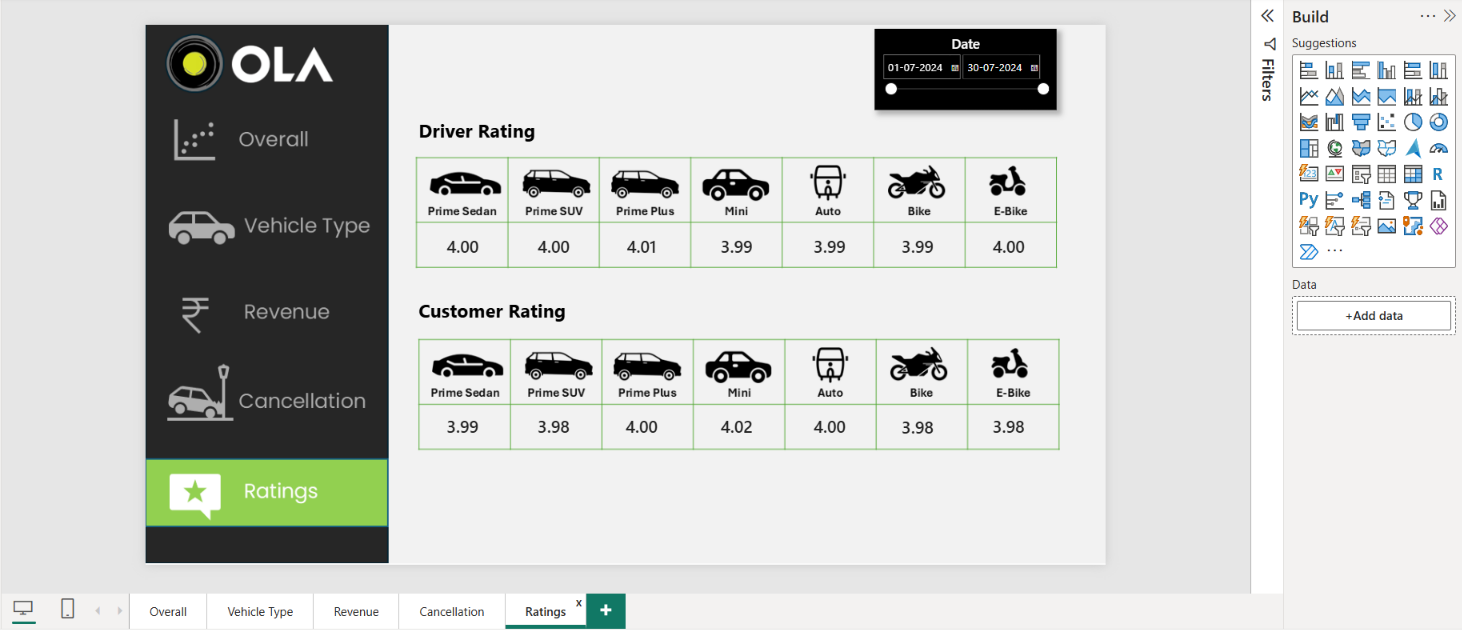

What the dashboard file says about the page in this screenshot:
{"tool":"powerbi","page":{"name":"Ratings","canvas":[1920,1080],"ordinal":4},"visuals":[{"type":"actionButton","box":[0,170.1,483.2,133.9],"z":0},{"type":"actionButton","box":[0,340.2,483.2,133.9],"z":1000},{"type":"actionButton","box":[0,506.7,483.2,133.9],"z":2000},{"type":"actionButton","box":[0,671.4,483.2,144.8],"z":3000},{"type":"cardVisual","fields":{"Data":["Avg(Bookings.Driver_Ratings)"]},"box":[568,408,132,66],"z":4000},{"type":"cardVisual","fields":{"Data":["Avg(Bookings.Driver_Ratings)"]},"box":[750,408,132,66],"z":5000},{"type":"cardVisual","fields":{"Data":["Avg(Bookings.Driver_Ratings)"]},"box":[926,408,132,66],"z":6000},{"type":"cardVisual","fields":{"Data":["Avg(Bookings.Driver_Ratings)"]},"box":[1116,408,132,66],"z":7000},{"type":"cardVisual","fields":{"Data":["Avg(Bookings.Driver_Ratings)"]},"box":[1302,408,132,66],"z":8000},{"type":"cardVisual","fields":{"Data":["Avg(Bookings.Driver_Ratings)"]},"box":[1478,408,132,66],"z":9000},{"type":"cardVisual","fields":{"Data":["Avg(Bookings.Driver_Ratings)"]},"box":[1660,408,132,66],"z":10000},{"type":"textbox","box":[0,0,483,150],"z":11000},{"type":"cardVisual","fields":{"Data":["Avg(Bookings.Customer_Rating)"]},"box":[568,768,132,66],"z":11001},{"type":"cardVisual","fields":{"Data":["Avg(Bookings.Customer_Rating)"]},"box":[750,768,132,66],"z":11002},{"type":"cardVisual","fields":{"Data":["Avg(Bookings.Customer_Rating)"]},"box":[926,768,132,66],"z":11003},{"type":"cardVisual","fields":{"Data":["Avg(Bookings.Customer_Rating)"]},"box":[1116,768,132,66],"z":11004},{"type":"cardVisual","fields":{"Data":["Avg(Bookings.Customer_Rating)"]},"box":[1302,768,132,66],"z":11005},{"type":"cardVisual","fields":{"Data":["Avg(Bookings.Customer_Rating)"]},"box":[1478,770,132,66],"z":11006},{"type":"cardVisual","fields":{"Data":["Avg(Bookings.Customer_Rating)"]},"box":[1660,768,132,66],"z":11007},{"type":"slicer","title":"Date","fields":{"Values":["Bookings.Date"]},"box":[1458,8,364,162],"z":11008},{"type":"textbox","box":[546,186,252,52],"z":11009},{"type":"textbox","box":[546,546,336,56],"z":11010}]}

Visuals, with their boxes on the page's 1920x1080 design canvas (x1, y1, x2, y2). These are canvas units, not pixel positions in the 1462x630 screenshot, which may show the page scaled, cropped or inside an application window:
actionButton: x1=0, y1=170, x2=483, y2=304
actionButton: x1=0, y1=340, x2=483, y2=474
actionButton: x1=0, y1=507, x2=483, y2=641
actionButton: x1=0, y1=671, x2=483, y2=816
cardVisual - Avg(Bookings.Driver_Ratings): x1=568, y1=408, x2=700, y2=474
cardVisual - Avg(Bookings.Driver_Ratings): x1=750, y1=408, x2=882, y2=474
cardVisual - Avg(Bookings.Driver_Ratings): x1=926, y1=408, x2=1058, y2=474
cardVisual - Avg(Bookings.Driver_Ratings): x1=1116, y1=408, x2=1248, y2=474
cardVisual - Avg(Bookings.Driver_Ratings): x1=1302, y1=408, x2=1434, y2=474
cardVisual - Avg(Bookings.Driver_Ratings): x1=1478, y1=408, x2=1610, y2=474
cardVisual - Avg(Bookings.Driver_Ratings): x1=1660, y1=408, x2=1792, y2=474
textbox: x1=0, y1=0, x2=483, y2=150
cardVisual - Avg(Bookings.Customer_Rating): x1=568, y1=768, x2=700, y2=834
cardVisual - Avg(Bookings.Customer_Rating): x1=750, y1=768, x2=882, y2=834
cardVisual - Avg(Bookings.Customer_Rating): x1=926, y1=768, x2=1058, y2=834
cardVisual - Avg(Bookings.Customer_Rating): x1=1116, y1=768, x2=1248, y2=834
cardVisual - Avg(Bookings.Customer_Rating): x1=1302, y1=768, x2=1434, y2=834
cardVisual - Avg(Bookings.Customer_Rating): x1=1478, y1=770, x2=1610, y2=836
cardVisual - Avg(Bookings.Customer_Rating): x1=1660, y1=768, x2=1792, y2=834
"Date" slicer: x1=1458, y1=8, x2=1822, y2=170
textbox: x1=546, y1=186, x2=798, y2=238
textbox: x1=546, y1=546, x2=882, y2=602
